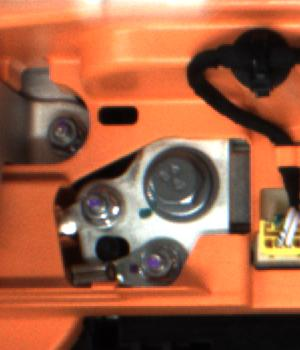nut_b: (143, 146, 220, 220)
screw_s: (75, 188, 122, 233), (135, 239, 182, 283), (38, 116, 86, 153)
